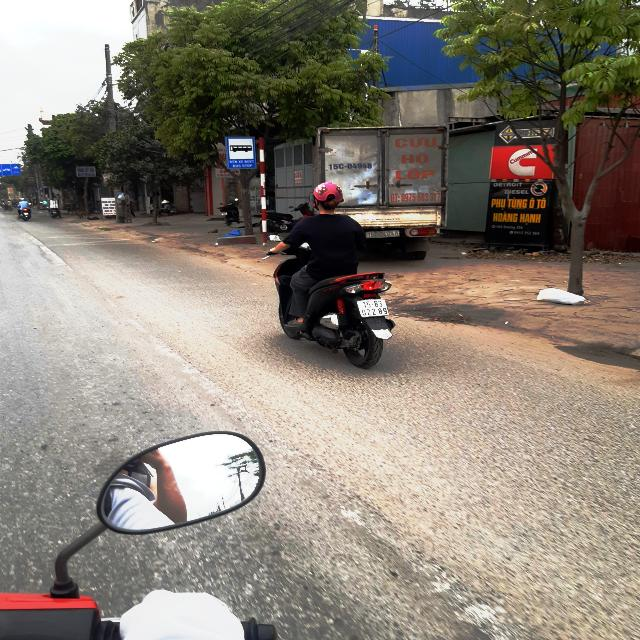license_plate: (358, 300, 391, 319)
